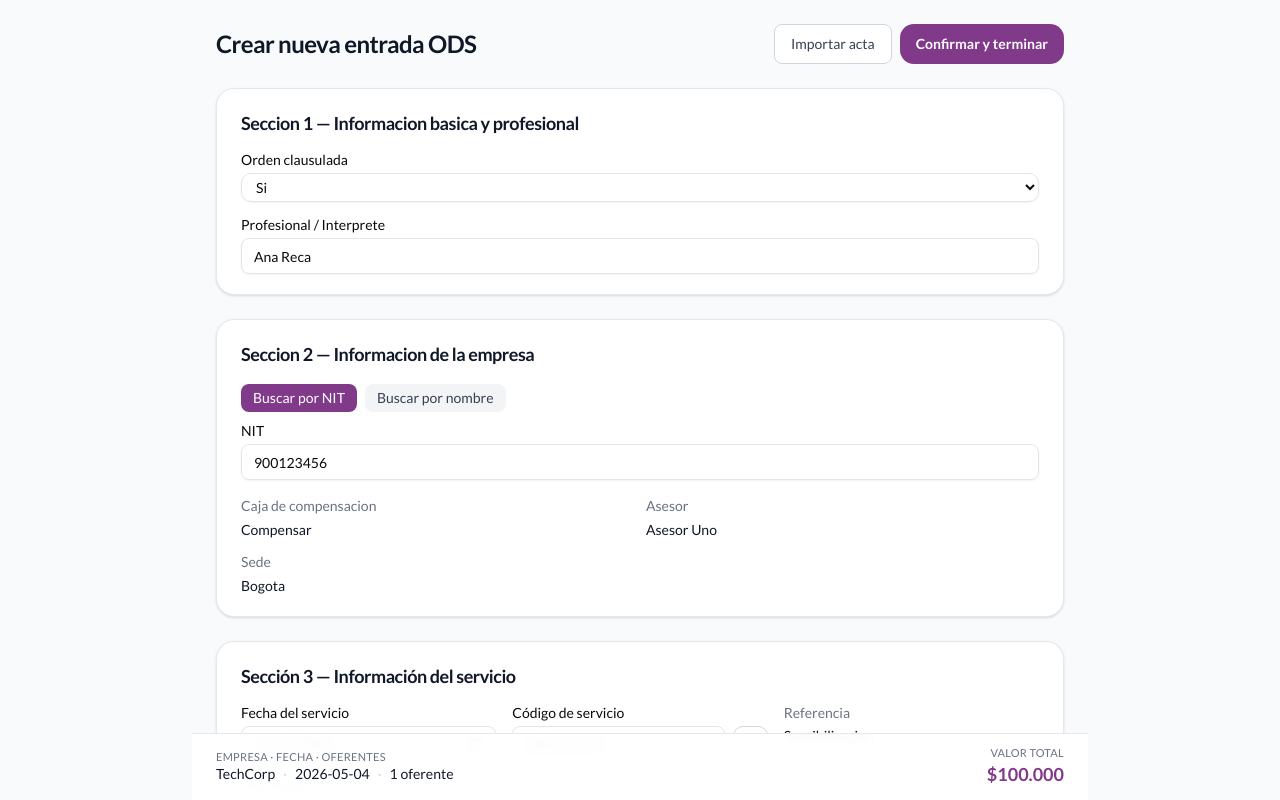
OdsWizardPage Seccion 4 staging auto-sync › bloquea fila nueva incompleta con error claro de Seccion 4
Click the button with test id "ods-confirm-terminar-button". click: (982, 44)
box: left=900, top=24, right=1064, bottom=64
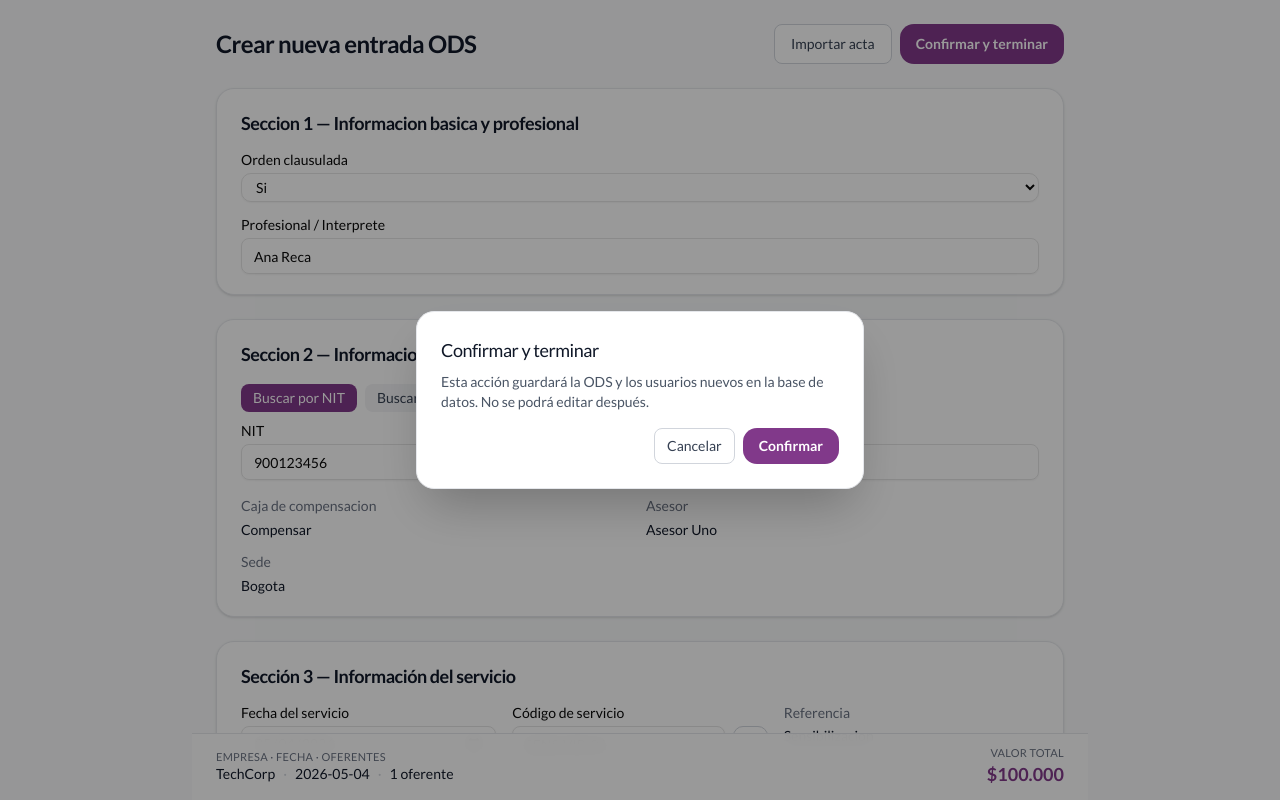
Click the button "Confirmar". click: (791, 446)
box: left=743, top=428, right=839, bottom=464
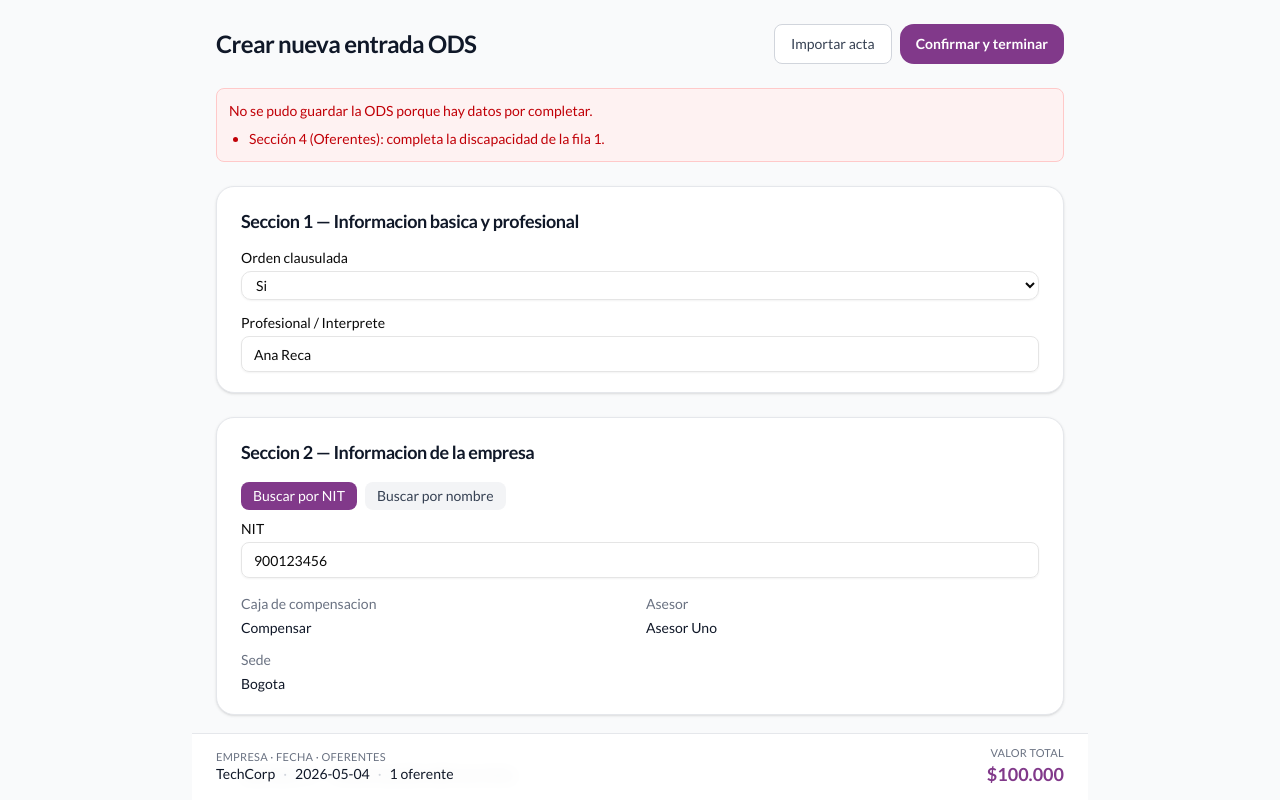
Now the list item "completa la discapacidad de la fila 1" is shown, box left=249, top=130, right=605, bottom=147
